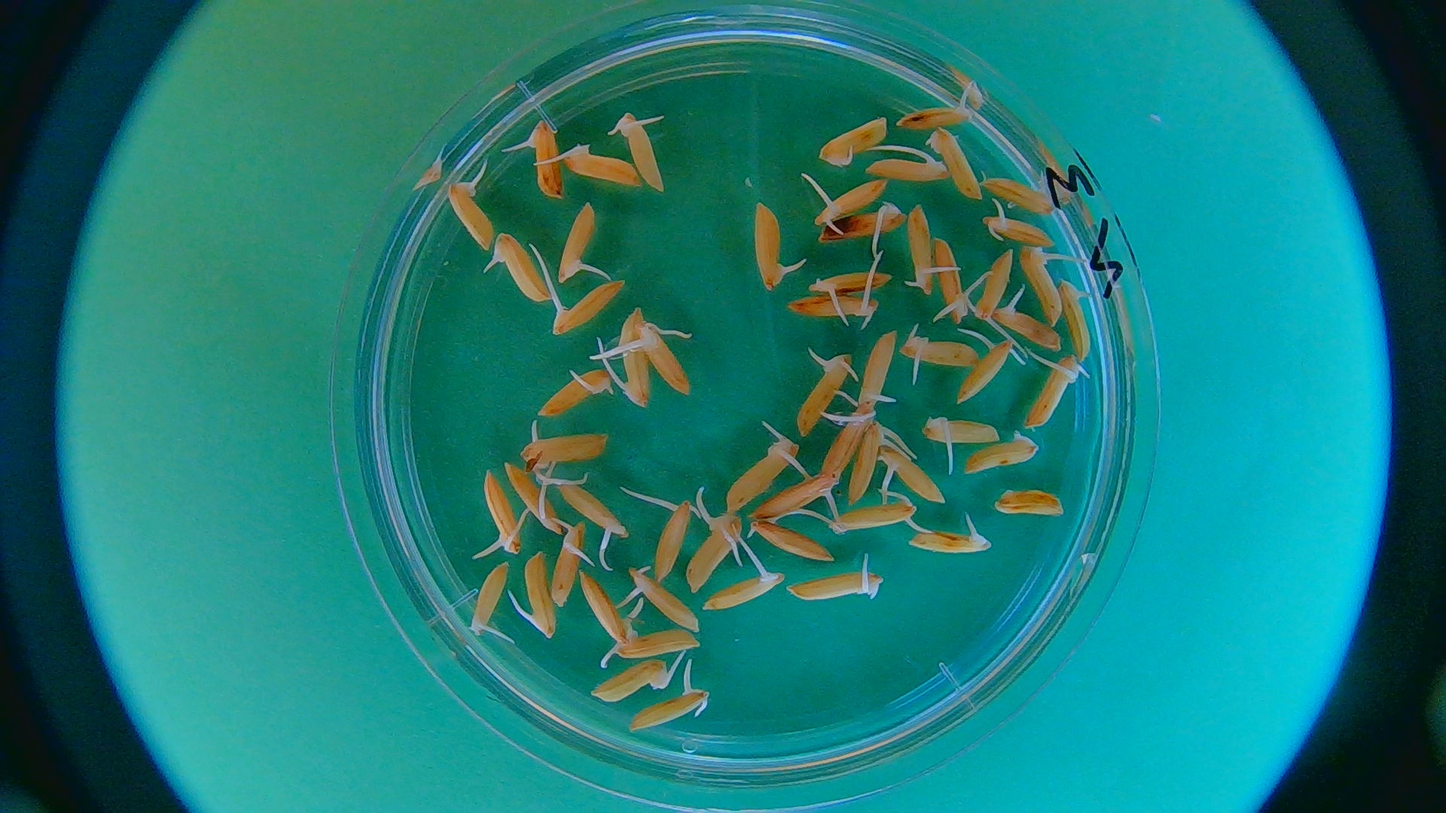no: (931, 124, 983, 203), (961, 430, 1043, 477), (995, 488, 1068, 520)
yes: (725, 437, 798, 517), (624, 565, 705, 635), (684, 514, 743, 593), (797, 354, 852, 437), (633, 321, 694, 394), (547, 279, 626, 335), (752, 509, 835, 560), (479, 468, 525, 556), (537, 367, 614, 419), (1023, 355, 1079, 426), (554, 480, 627, 534), (756, 476, 839, 523), (549, 522, 593, 608), (953, 338, 1011, 403), (834, 493, 920, 536), (583, 571, 635, 642), (650, 498, 695, 580), (616, 111, 664, 187), (899, 325, 980, 370), (493, 233, 549, 298), (967, 247, 1016, 321), (880, 449, 945, 504), (592, 659, 679, 700), (816, 117, 888, 166), (787, 565, 885, 601), (625, 692, 710, 733), (1018, 248, 1063, 325), (700, 567, 777, 612), (555, 202, 598, 282), (842, 424, 885, 504), (818, 180, 886, 230), (507, 465, 561, 527), (614, 309, 649, 403), (822, 204, 900, 246), (525, 433, 609, 472), (445, 182, 495, 247), (857, 327, 896, 410), (469, 563, 511, 638), (993, 301, 1058, 349), (819, 416, 865, 480), (565, 148, 639, 187), (752, 200, 784, 290), (609, 632, 700, 663), (922, 414, 1001, 449), (522, 551, 554, 636), (908, 203, 938, 291), (986, 174, 1054, 212), (867, 151, 950, 181), (937, 242, 968, 322), (981, 212, 1051, 247), (806, 269, 893, 297), (1058, 281, 1088, 362), (792, 295, 881, 322), (890, 104, 972, 133), (530, 120, 560, 195), (914, 527, 996, 553)
